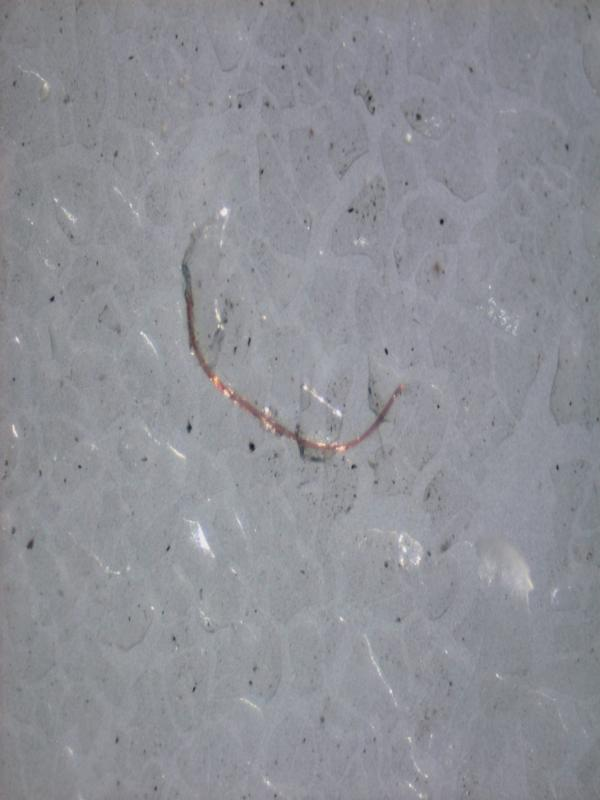microplastic: (179, 204, 404, 463)
